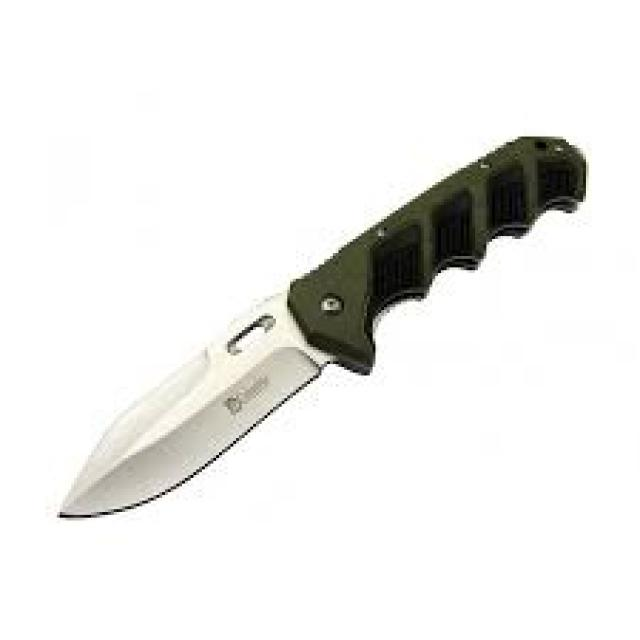knives: (51, 125, 592, 526)
